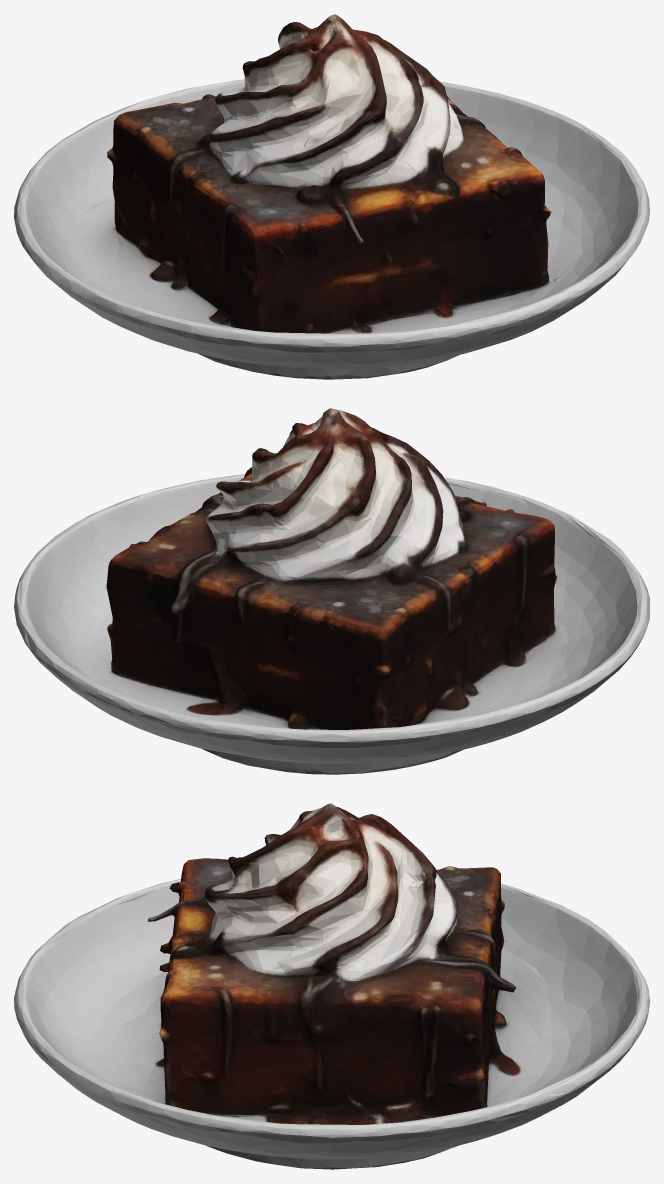
3 renders of one model, top to bottom at view 1: azimuth 30°, elevation 25°; view 2: azimuth 150°, elevation 25°; view 3: azimuth 270°, elevation 25°, orthographic.
Visible parts, largest first — view 1: geometry_0; view 2: geometry_0; view 3: geometry_0.
Boxes of the visible parts, x1,y1,x2,y2 form: geometry_0: [14, 14, 649, 379]; geometry_0: [14, 408, 649, 774]; geometry_0: [14, 803, 649, 1169].
Bounding box in the file's own units: 0.9983 × 0.5056 × 0.9903.
Materials: 1 (1 with a texture image).
